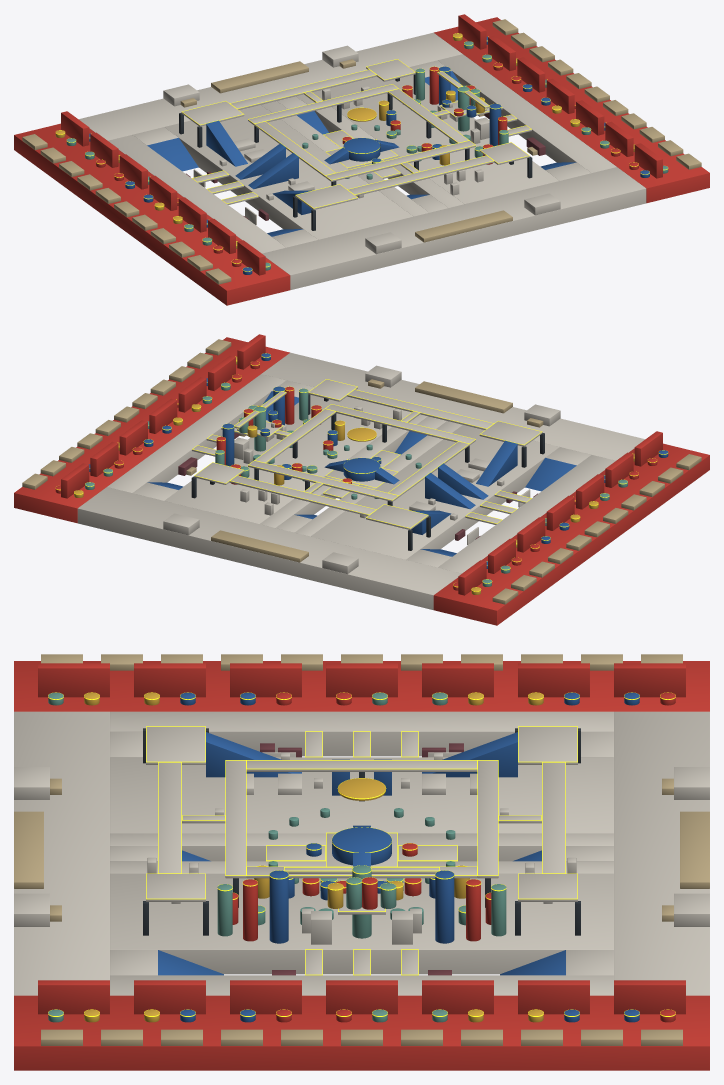
Rendered from house.glb.
3 views of the same model, one above another, from view 1: azimuth 30°, elevation 25°; view 2: azimuth 150°, elevation 25°; view 3: azimuth 270°, elevation 25° (orthographic). The views are drawn at different scales.
Parts seen in each view (by area): view 1: house; view 2: house; view 3: house.
Part boxes in pixels (<box>): house: <box>14,14,709,305</box>; house: <box>14,334,709,625</box>; house: <box>14,654,709,1070</box>.
Size of the model in its own units: 152 by 16.57 by 116.
